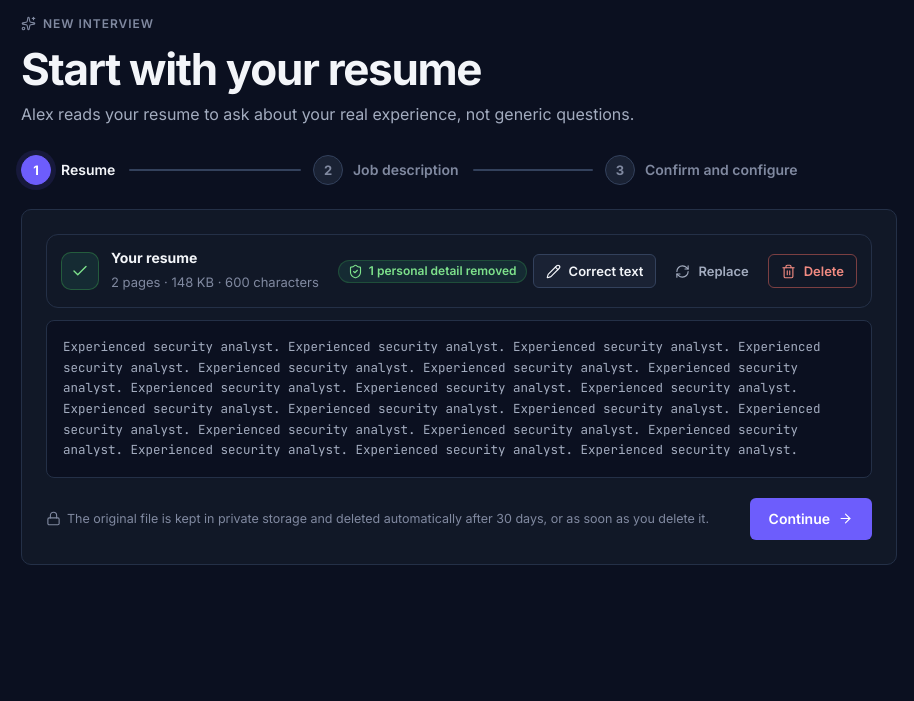
Test: new interview: deleting documents (TR-13) › a failed Delete keeps the document and says why
Click the button "Delete". click: (812, 271)
box: [768, 254, 857, 288]
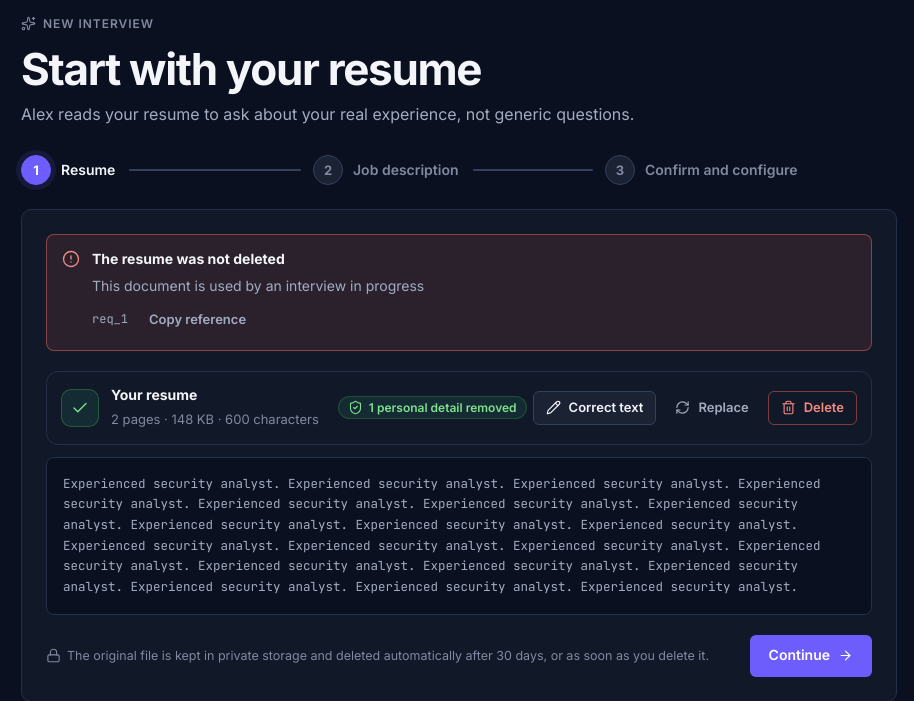
Expected: the text "2 pages" is shown, [111, 411, 319, 427]
Now the text "The resume was not deleted" is shown, box [92, 250, 285, 267]
Now the text "This document is used by an interview in progress" is shown, box [92, 278, 424, 294]
